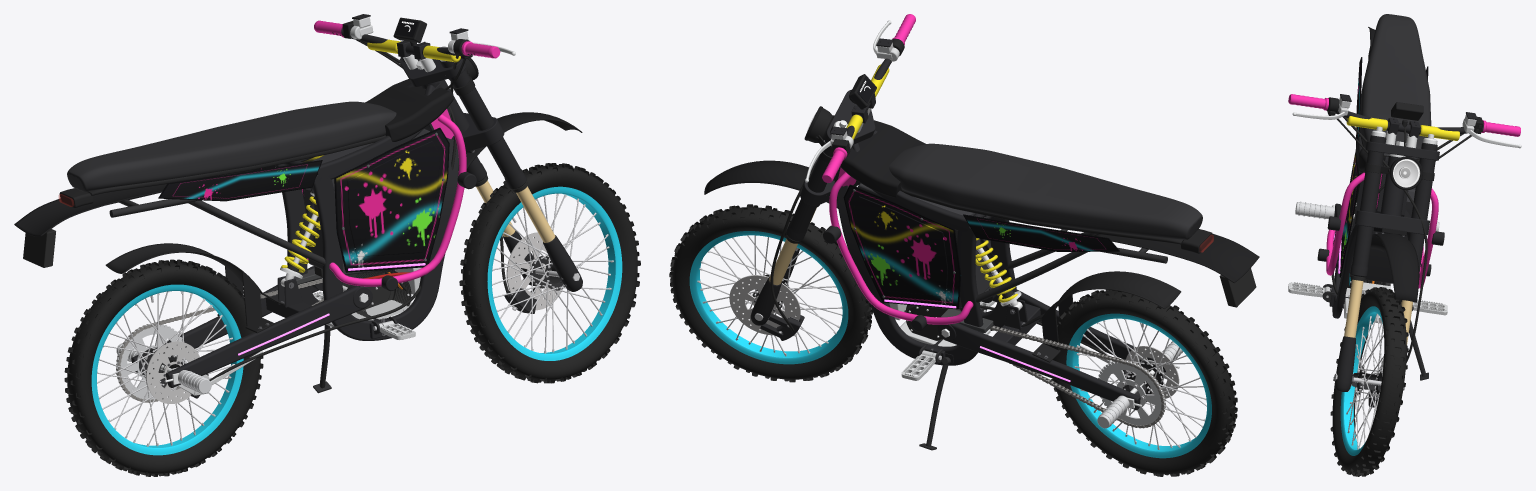
The model's file is surron-light-bee-x-stunt.glb.
3 views of the same model, side by side, from view 1: azimuth 30°, elevation 25°; view 2: azimuth 150°, elevation 25°; view 3: azimuth 270°, elevation 25° (orthographic). The views are drawn at different scales.
Visible parts, largest first — view 1: Seat, Tire_R, Tire_F, Frame_Main, SidePanel_Inner_R, Swingarm_Arms, SidePanel_R, Rim_F, Rim_R, RearCover_R, Spokes_F, Spokes_R (+23 smaller); view 2: Seat, Tire_F, Tire_R, Frame_Main, SidePanel_Inner_L, Swingarm_Arms, Rim_F, SidePanel_L, Rim_R, TankCover, RearCover_L, RearFender (+21 smaller); view 3: Seat, Tire_F, FrontFender, Fork_Upper_R, Spokes_F, Acc_CrashCage, Rim_F, Frame_Main, Fork_Upper_L, Battery_Pack, TripleClamp_Lower, Fork_Lug_R (+24 smaller).
Part boxes in pixels (x1,y1,x2,y2): Seat: (67,101,396,191); Tire_R: (64,259,263,476); Tire_F: (459,163,640,383); Frame_Main: (275,82,458,340); SidePanel_Inner_R: (347,141,439,256); Swingarm_Arms: (131,266,372,387); SidePanel_R: (334,127,449,272); Rim_F: (487,186,622,360); Rim_R: (91,284,243,455); RearCover_R: (158,160,322,201); Spokes_F: (492,194,612,352); Spokes_R: (97,291,233,446); Seat: (889,143,1202,239); Tire_F: (669,204,873,382); Tire_R: (1050,289,1237,476); Frame_Main: (834,130,1016,365); SidePanel_Inner_L: (854,196,947,296); Swingarm_Arms: (937,280,1170,410); Rim_F: (689,231,848,364); SidePanel_L: (843,184,961,309); Rim_R: (1066,313,1211,458); TankCover: (840,120,925,197); RearCover_L: (963,214,1119,251); RearFender: (1094,234,1259,282); Seat: (1360,14,1431,158); Tire_F: (1330,287,1408,476); FrontFender: (1370,232,1419,302); Fork_Upper_R: (1350,135,1386,277); Spokes_F: (1346,315,1383,448); Acc_CrashCage: (1326,172,1438,288); Rim_F: (1340,306,1382,455); Frame_Main: (1329,136,1411,318); Fork_Upper_L: (1408,143,1437,279); Battery_Pack: (1350,180,1415,283); TripleClamp_Lower: (1355,210,1429,234); Fork_Lug_R: (1335,336,1355,391).
Size of the model in its own units: 1.97 by 1.19 by 0.7598.
46 materials, 2 textured.
